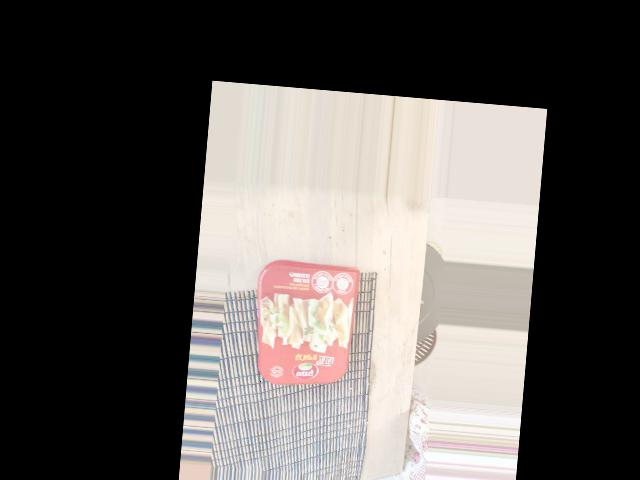cheese: (205, 337, 345, 435)
